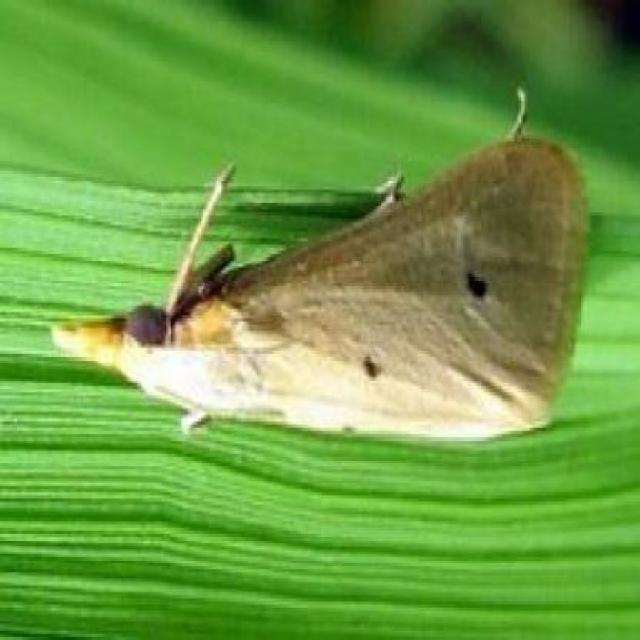stem-borer: (46, 85, 594, 449)
